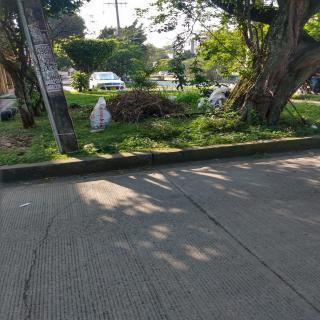Garbage: (87, 95, 122, 131), (209, 85, 231, 107)
